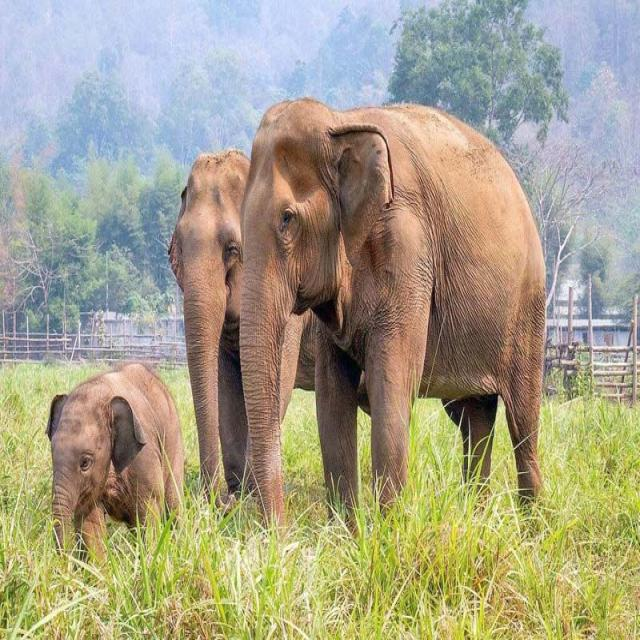Elephant: (229, 59, 566, 577), (164, 95, 259, 514), (18, 337, 188, 562)
